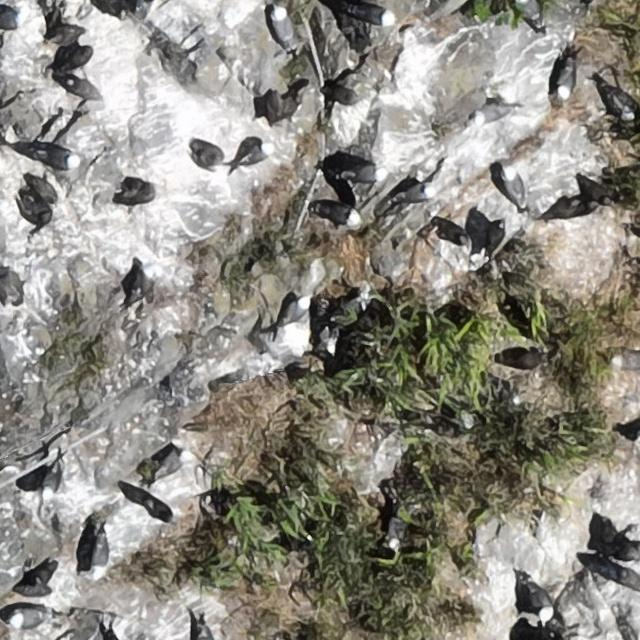umineko: (502, 164, 530, 212), (318, 205, 361, 230), (396, 185, 438, 208), (530, 584, 554, 619), (38, 147, 79, 167), (272, 9, 292, 45), (91, 536, 108, 578), (354, 7, 390, 25), (284, 298, 308, 324), (388, 516, 406, 548), (243, 144, 270, 165), (612, 350, 640, 369), (556, 69, 573, 99), (11, 610, 41, 627), (43, 466, 59, 496), (518, 0, 538, 23), (354, 165, 382, 181)
